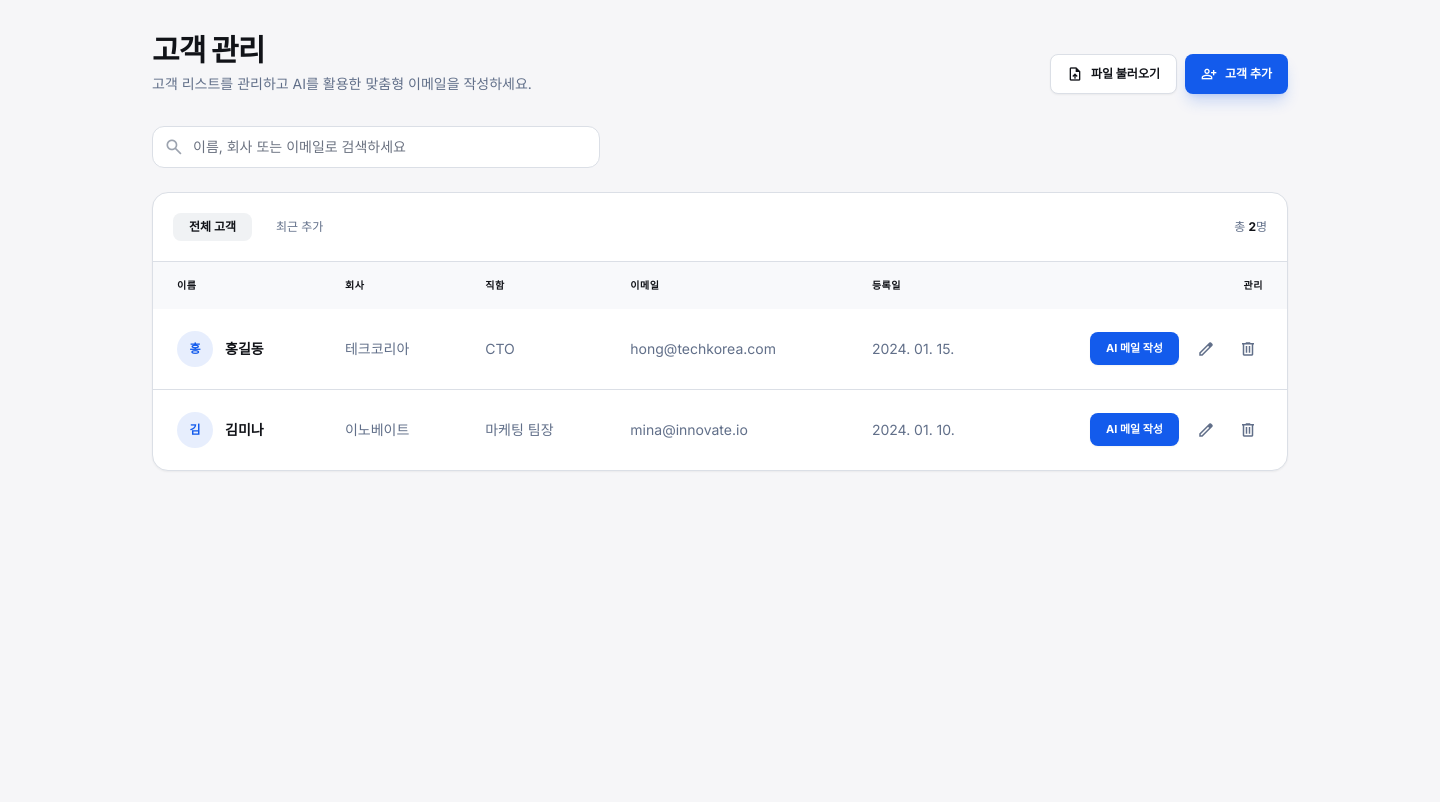
Test case: CustomerManagement › 고객 추가 모달 › 이름과 이메일 없이 제출하면 오류 메시지를 표시한다
This screenshot has width=1440, height=802.
expect the text "홍길동" is shown: met, box [225, 338, 264, 358]
Click the button "고객 추가". click: (1236, 74)
box: [1185, 54, 1288, 94]
(page scrolled)
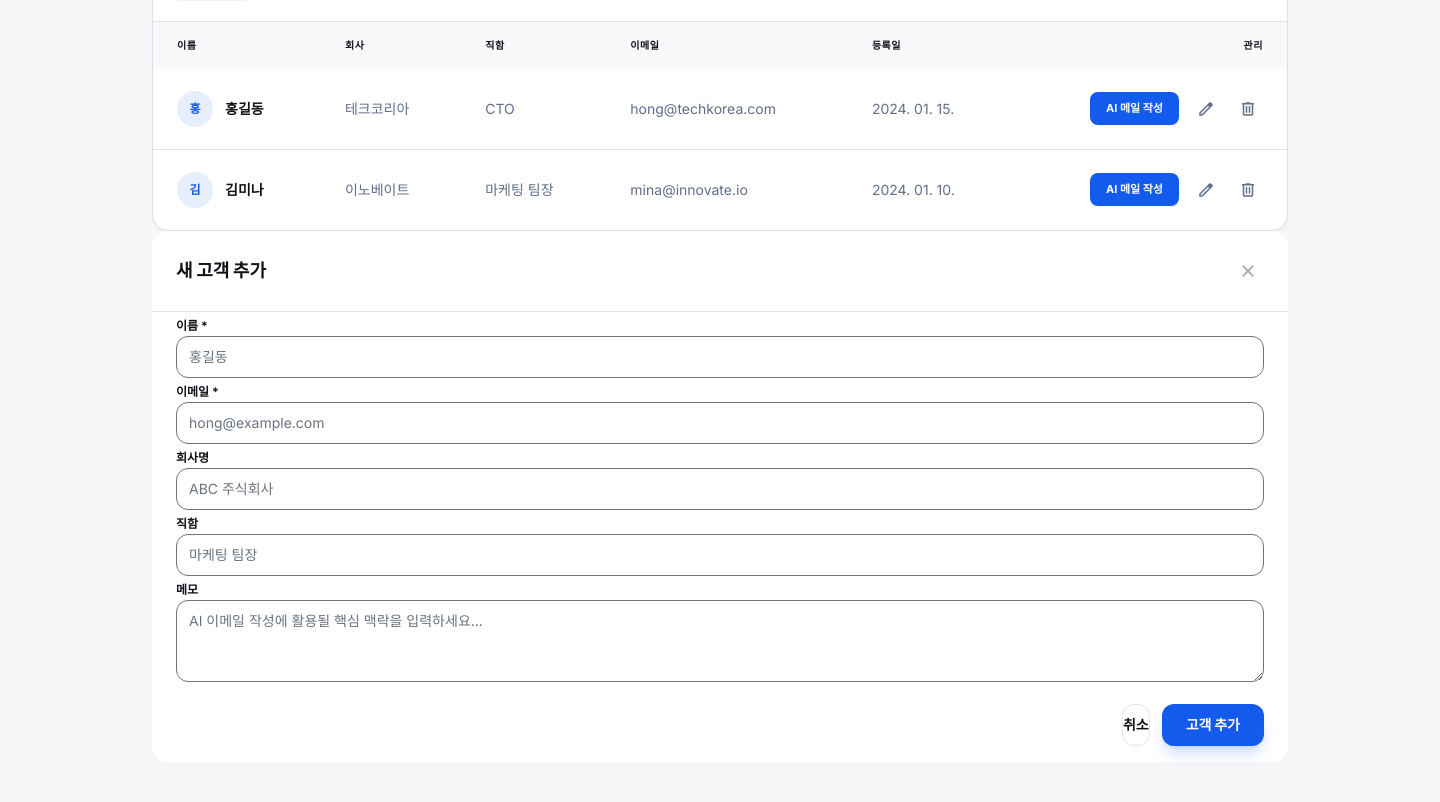
Click the button "고객 추가". click: (1213, 724)
box: [1162, 704, 1264, 746]
(page scrolled)
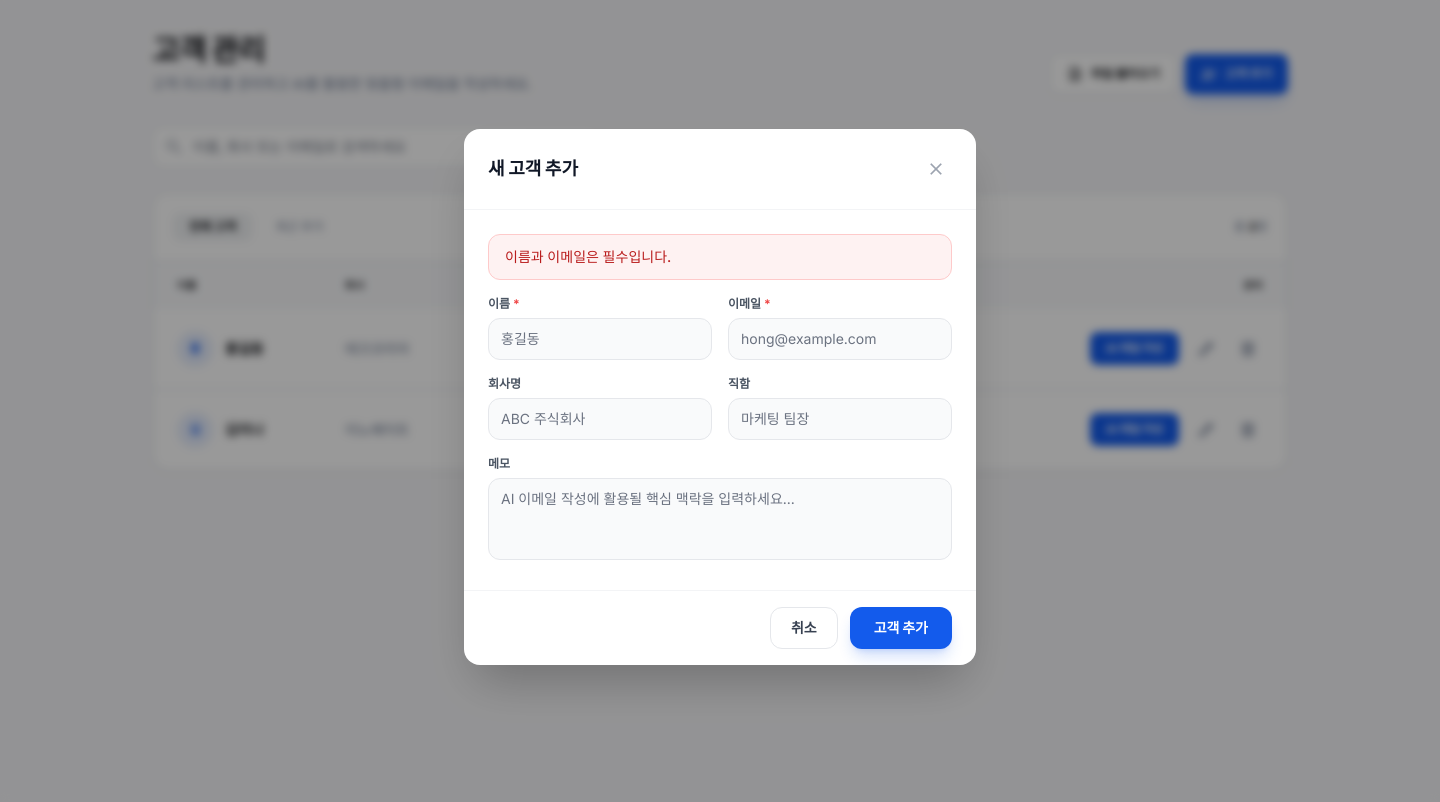
expect the text "이름과 이메일은 필수입니다." is shown: met, box [488, 234, 952, 280]
